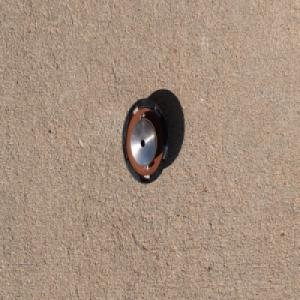FuelCap: (120, 95, 170, 185)
